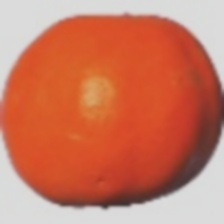tangerine: (15, 34, 190, 208)
